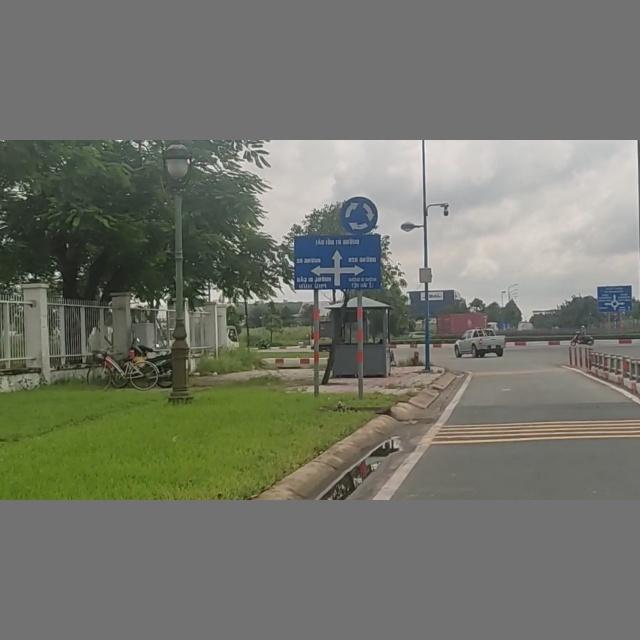R.303: (339, 193, 381, 236)
